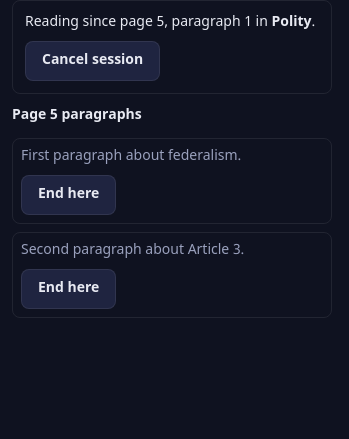
it: BookmarkPanel › ends the session and shows tags, the gate hint and a Source Budget warning
Click the button with aria-label "set end bookmark at paragraph 2": (69, 289) [21,269,116,309]
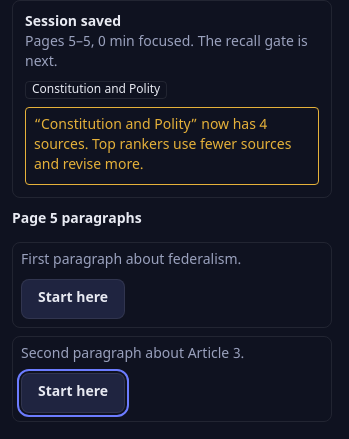
Expected: the list item "Constitution and Polity" is shown, [25,81,167,99]
Expected: the text "4 sources" is shown, [25,107,319,185]
Expected: the text "Pages 5–5, 0 min focused. The recall gate is next." is shown, [25,33,319,73]
